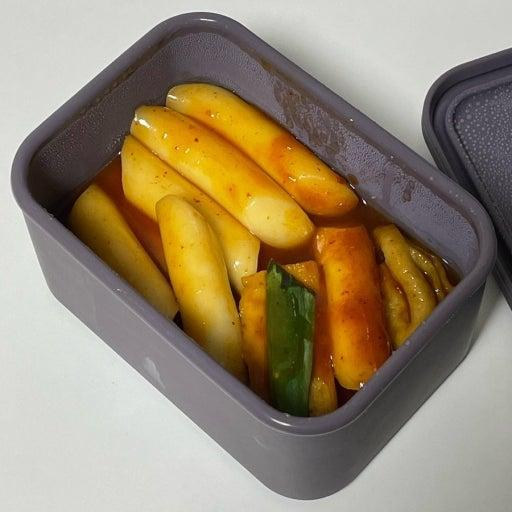Lunch Box: (12, 13, 511, 498)
